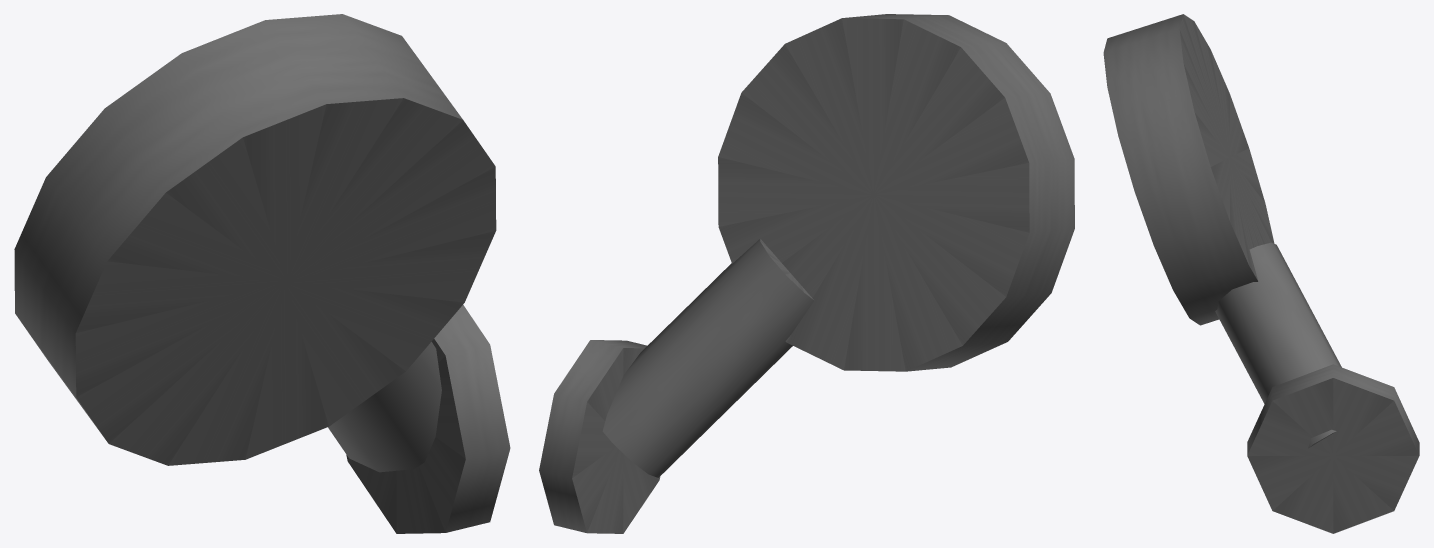
The model's file is mastarmcurve_4x1_c1_east.obj.
3 renders of one model, left to right at view 1: azimuth 30°, elevation 25°; view 2: azimuth 150°, elevation 25°; view 3: azimuth 270°, elevation 25°, orthographic. The views are drawn at different scales.
Parts seen in each view (by area): view 1: mastarm_4x1_c1_east; view 2: mastarm_4x1_c1_east; view 3: mastarm_4x1_c1_east.
Boxes of the visible parts, x1,y1,x2,y2 form: mastarm_4x1_c1_east: (14,14,510,533); mastarm_4x1_c1_east: (539,14,1074,533); mastarm_4x1_c1_east: (1103,14,1419,533).
Bounding box in the file's own units: 0.858 × 1.06 × 0.7336.
